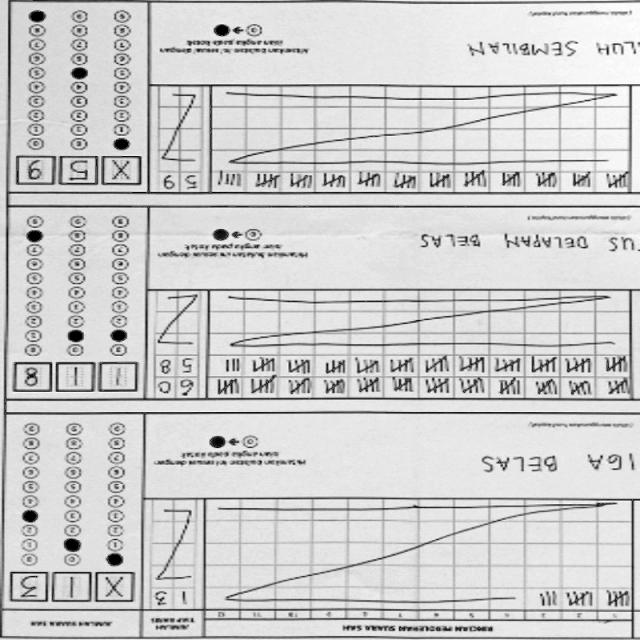Suara: (8, 568, 140, 610), (14, 360, 146, 399), (12, 154, 146, 188)
